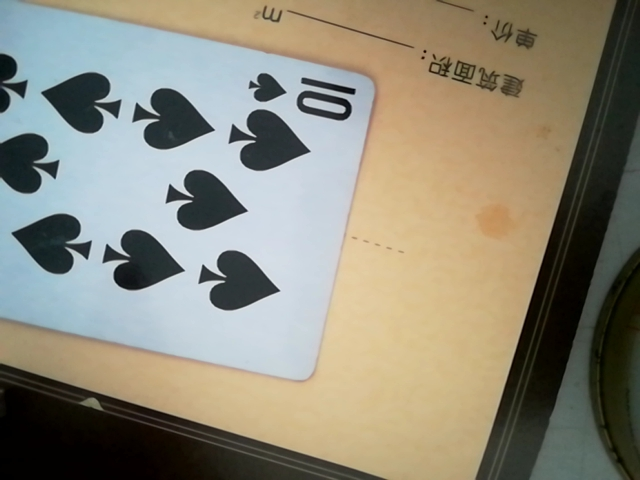ht 10: (0, 0, 383, 378)
